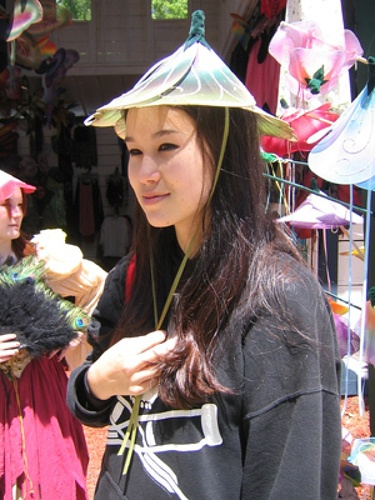head: (122, 83, 226, 231)
person: (31, 1, 344, 500), (1, 157, 101, 500)
